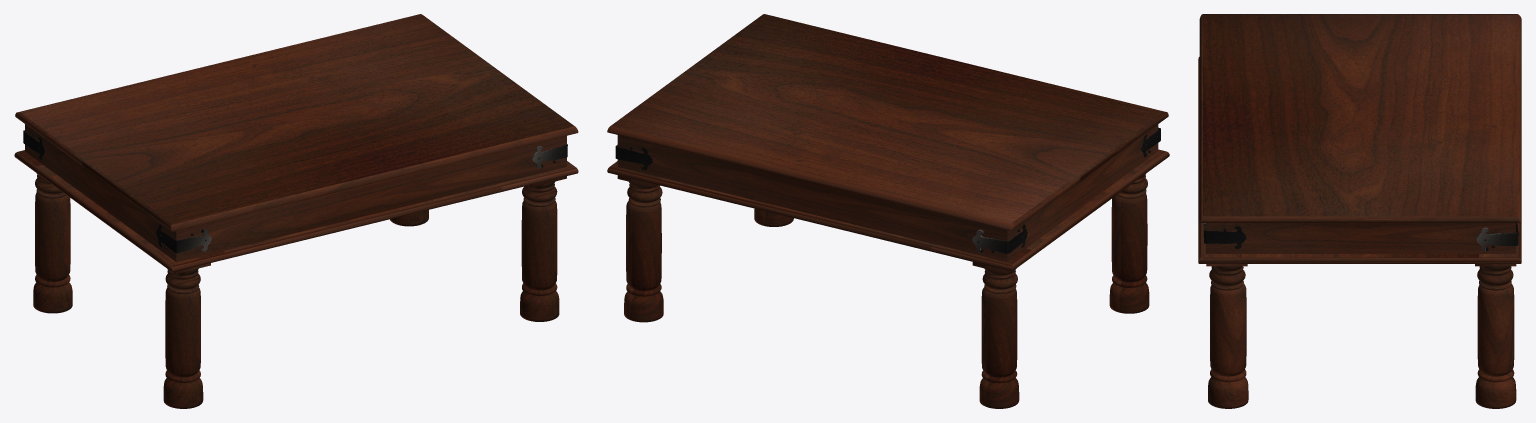
Rendered from alba_sheeshamcoffee_table.obj.
The picture shows the model from 3 angles, left to right: view 1: azimuth 30°, elevation 25°; view 2: azimuth 150°, elevation 25°; view 3: azimuth 270°, elevation 25°; orthographic projection. The views are drawn at different scales.
Parts seen in each view (by area): view 1: Cube_Cube.002, Cube.001_Cube.003, Cube.002_Cube.004, Sphere.000_Sphere.004, Sphere.004_Sphere.007, Sphere.001_Sphere.006, Plane_Plane.001; view 2: Cube_Cube.002, Cube.001_Cube.003, Cube.002_Cube.004, Sphere.001_Sphere.006, Sphere.002_Sphere.005, Sphere.004_Sphere.007, Plane.002_Plane.003, Plane.003_Plane.004, Sphere.000_Sphere.004; view 3: Cube_Cube.002, Cube.001_Cube.003, Sphere.002_Sphere.005, Sphere.000_Sphere.004, Cube.002_Cube.004, Plane.003_Plane.004, Plane.001_Plane.002.
Part boxes in pixels (x1,y1,x2,y2): Cube_Cube.002: [15, 14, 578, 231]; Cube.001_Cube.003: [25, 124, 566, 261]; Cube.002_Cube.004: [14, 150, 578, 271]; Sphere.000_Sphere.004: [520, 181, 559, 321]; Sphere.004_Sphere.007: [163, 268, 203, 408]; Sphere.001_Sphere.006: [33, 173, 72, 313]; Plane_Plane.001: [156, 224, 211, 253]; Cube_Cube.002: [607, 14, 1168, 230]; Cube.001_Cube.003: [617, 124, 1158, 261]; Cube.002_Cube.004: [607, 149, 1169, 271]; Sphere.001_Sphere.006: [979, 268, 1019, 408]; Sphere.002_Sphere.005: [624, 181, 663, 322]; Sphere.004_Sphere.007: [1109, 174, 1149, 313]; Plane.002_Plane.003: [972, 224, 1027, 253]; Plane.003_Plane.004: [615, 145, 652, 170]; Sphere.000_Sphere.004: [754, 208, 793, 226]; Cube_Cube.002: [1199, 14, 1521, 222]; Cube.001_Cube.003: [1205, 222, 1515, 253]; Sphere.002_Sphere.005: [1475, 266, 1516, 408]; Sphere.000_Sphere.004: [1208, 266, 1248, 408]; Cube.002_Cube.004: [1198, 57, 1521, 263]; Plane.003_Plane.004: [1476, 222, 1518, 251]; Plane.001_Plane.002: [1203, 222, 1246, 248].
Bounding box in the file's own units: 35.04 × 15.74 × 23.5.
Materials: 5 (5 with a texture image).
